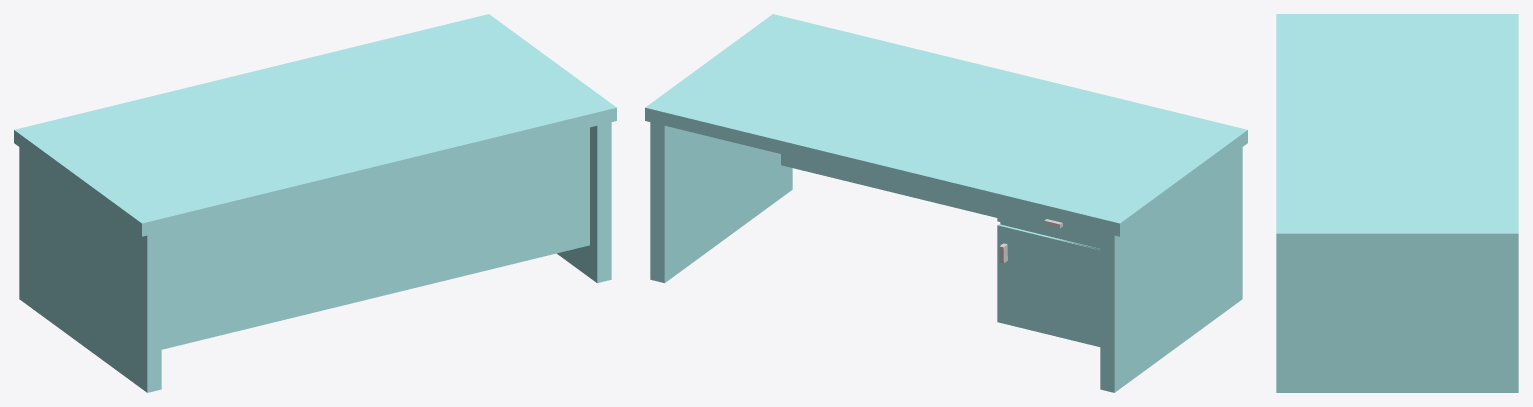
The model's file is meja3biru.glb.
3 renders of one model, left to right at view 1: azimuth 30°, elevation 25°; view 2: azimuth 150°, elevation 25°; view 3: azimuth 270°, elevation 25°, orthographic. The views are drawn at different scales.
Visible parts, largest first — view 1: Cube; view 2: Cube, Cube.001; view 3: Cube.
Part boxes in pixels (x1,y1,x2,y2): Cube: (14,14,616,392); Cube: (645,14,1247,392); Cube.001: (997,207,1100,346); Cube: (1276,14,1518,392).
Bounding box in the file's own units: 0.9479 × 0.3257 × 0.4424.
